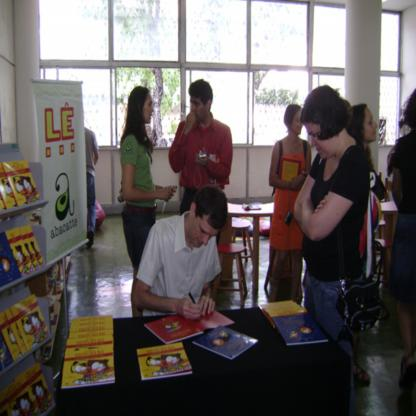book: (0, 156, 56, 415), (144, 305, 232, 347), (257, 298, 328, 343), (62, 337, 115, 389), (136, 341, 194, 386), (196, 322, 254, 360), (68, 311, 115, 336)
